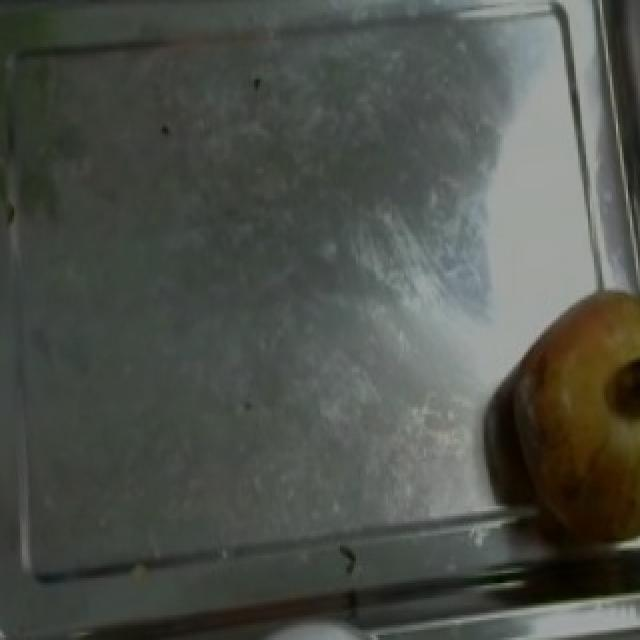fruit: (504, 282, 638, 560)
